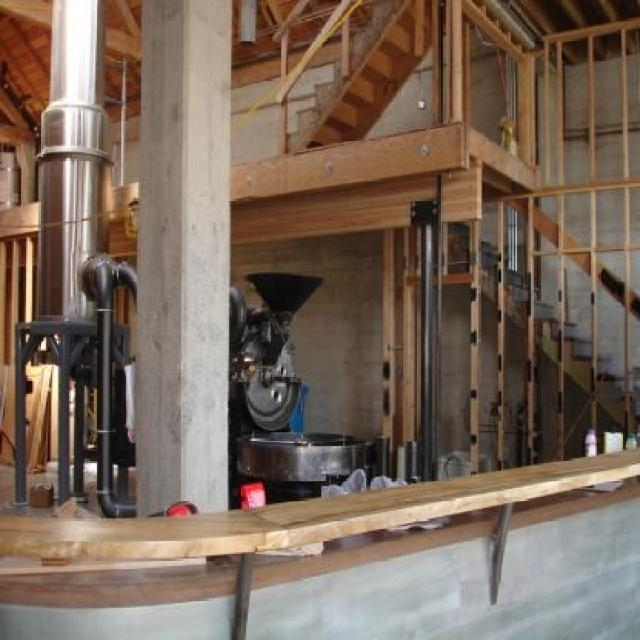stair: (447, 193, 640, 449), (272, 0, 438, 155)
